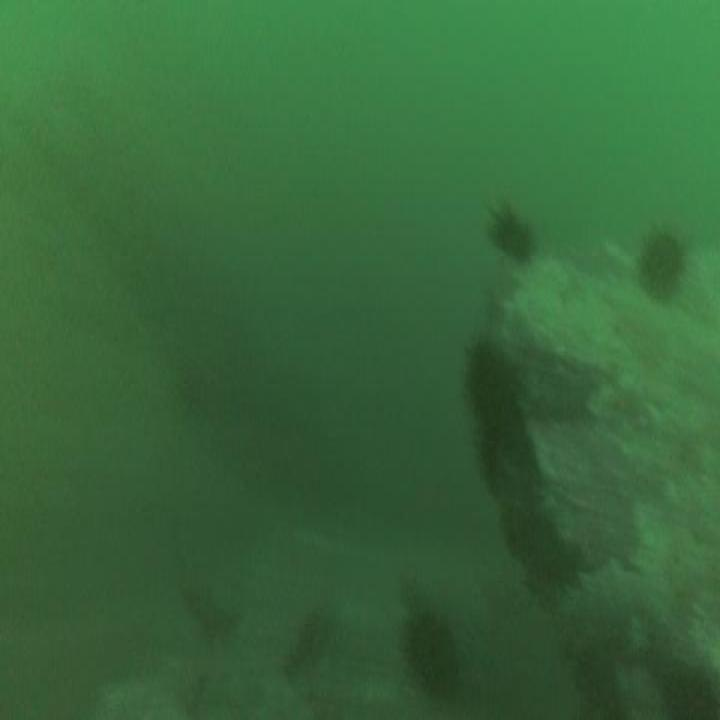echinus: (407, 613, 452, 683), (639, 236, 680, 298), (463, 345, 495, 403), (492, 212, 527, 258)
